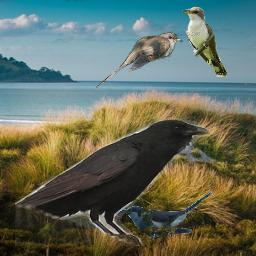Crow: (15, 117, 210, 246)
Cuckoo: (96, 32, 183, 88), (118, 191, 215, 239), (182, 6, 227, 77)
